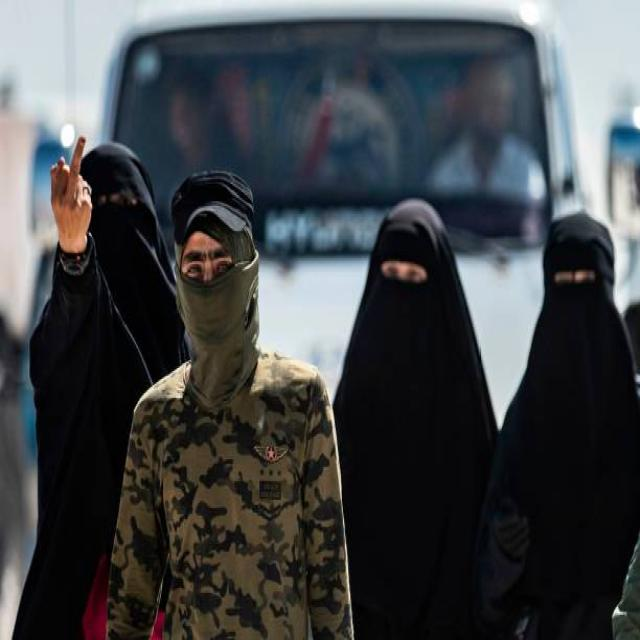6_pasamontana: (363, 198, 466, 390)
